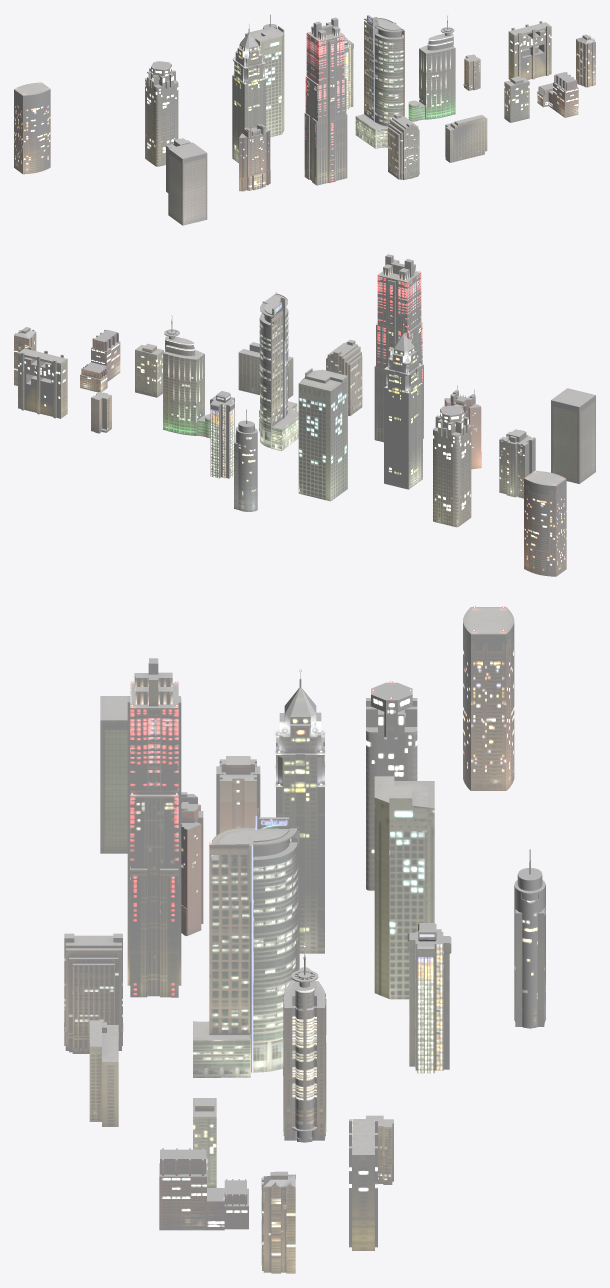
3 renders of one model, top to bottom at view 1: azimuth 30°, elevation 25°; view 2: azimuth 150°, elevation 25°; view 3: azimuth 270°, elevation 25°, orthographic. The views are drawn at different scales.
Parts seen in each view (by area): view 1: BACKGROUND_BUILDINGS_1.009, BACKGROUND_BUILDING_2, BACKGROUND_BUILDINGS_1, BACKGROUND_BUILDINGS_1.007, BACKGROUND_BUILDING_2.008, BACKGROUND_BUILDINGS_1.008, BACKGROUND_BUILDINGS_1.002, BACKGROUND_BUILDING_2.007, BACKGROUND_BUILDING_2.005, BACKGROUND_BUILDINGS_1.004, BACKGROUND_BUILDING_2.001, BACKGROUND_BUILDING_2.002 (+5 smaller); view 2: BACKGROUND_BUILDING_2.007, BACKGROUND_BUILDINGS_1.008, BACKGROUND_BUILDINGS_1.009, BACKGROUND_BUILDING_2, BACKGROUND_BUILDING_2.008, BACKGROUND_BUILDINGS_1.007, BACKGROUND_BUILDINGS_1, BACKGROUND_BUILDINGS_1.002, BACKGROUND_BUILDING_2.005, BACKGROUND_BUILDINGS_1.001, BACKGROUND_BUILDINGS_1.003, BACKGROUND_BUILDINGS_1.006 (+7 smaller); view 3: BACKGROUND_BUILDING_2, BACKGROUND_BUILDINGS_1.009, BACKGROUND_BUILDING_2.007, BACKGROUND_BUILDINGS_1.007, BACKGROUND_BUILDINGS_1.008, BACKGROUND_BUILDINGS_1, BACKGROUND_BUILDING_2.001, BACKGROUND_BUILDINGS_1.006, BACKGROUND_BUILDING_2.004, BACKGROUND_BUILDING_2.008, BACKGROUND_BUILDINGS_1.001, BACKGROUND_BUILDINGS_1.002 (+7 smaller).
Boxes of the visible parts, x1=… form: BACKGROUND_BUILDINGS_1.009: x1=304, y1=17, x2=347, y2=185; BACKGROUND_BUILDING_2: x1=355, y1=15, x2=404, y2=148; BACKGROUND_BUILDINGS_1: x1=408, y1=16, x2=455, y2=121; BACKGROUND_BUILDINGS_1.007: x1=14, y1=82, x2=50, y2=174; BACKGROUND_BUILDING_2.008: x1=145, y1=61, x2=178, y2=166; BACKGROUND_BUILDINGS_1.008: x1=232, y1=25, x2=265, y2=162; BACKGROUND_BUILDINGS_1.002: x1=168, y1=142, x2=207, y2=225; BACKGROUND_BUILDING_2.007: x1=245, y1=26, x2=284, y2=137; BACKGROUND_BUILDING_2.005: x1=508, y1=21, x2=551, y2=80; BACKGROUND_BUILDINGS_1.004: x1=239, y1=124, x2=270, y2=191; BACKGROUND_BUILDING_2.001: x1=388, y1=113, x2=419, y2=179; BACKGROUND_BUILDING_2.002: x1=445, y1=115, x2=487, y2=162; BACKGROUND_BUILDING_2.007: x1=298, y1=368, x2=347, y2=501; BACKGROUND_BUILDINGS_1.008: x1=384, y1=325, x2=422, y2=489; BACKGROUND_BUILDINGS_1.009: x1=374, y1=254, x2=423, y2=442; BACKGROUND_BUILDING_2: x1=259, y1=293, x2=298, y2=450; BACKGROUND_BUILDING_2.008: x1=433, y1=405, x2=471, y2=527; BACKGROUND_BUILDINGS_1.007: x1=524, y1=471, x2=566, y2=576; BACKGROUND_BUILDINGS_1: x1=163, y1=316, x2=210, y2=438; BACKGROUND_BUILDINGS_1.002: x1=551, y1=388, x2=595, y2=483; BACKGROUND_BUILDING_2.005: x1=18, y1=346, x2=67, y2=418; BACKGROUND_BUILDINGS_1.001: x1=234, y1=409, x2=257, y2=511; BACKGROUND_BUILDINGS_1.003: x1=499, y1=429, x2=535, y2=498; BACKGROUND_BUILDINGS_1.006: x1=210, y1=391, x2=234, y2=478; BACKGROUND_BUILDING_2: x1=193, y1=808, x2=299, y2=1077; BACKGROUND_BUILDINGS_1.009: x1=127, y1=658, x2=181, y2=997; BACKGROUND_BUILDING_2.007: x1=374, y1=776, x2=434, y2=999; BACKGROUND_BUILDINGS_1.007: x1=463, y1=607, x2=514, y2=790; BACKGROUND_BUILDINGS_1.008: x1=276, y1=672, x2=324, y2=953; BACKGROUND_BUILDINGS_1: x1=283, y1=947, x2=326, y2=1142; BACKGROUND_BUILDING_2.001: x1=64, y1=933, x2=123, y2=1053; BACKGROUND_BUILDINGS_1.006: x1=407, y1=923, x2=451, y2=1073; BACKGROUND_BUILDING_2.004: x1=159, y1=1148, x2=248, y2=1230; BACKGROUND_BUILDING_2.008: x1=366, y1=682, x2=417, y2=890; BACKGROUND_BUILDINGS_1.001: x1=514, y1=849, x2=545, y2=1028; BACKGROUND_BUILDINGS_1.002: x1=100, y1=696, x2=127, y2=853.
Bounding box in the file's own units: 1049 × 301 × 419.
